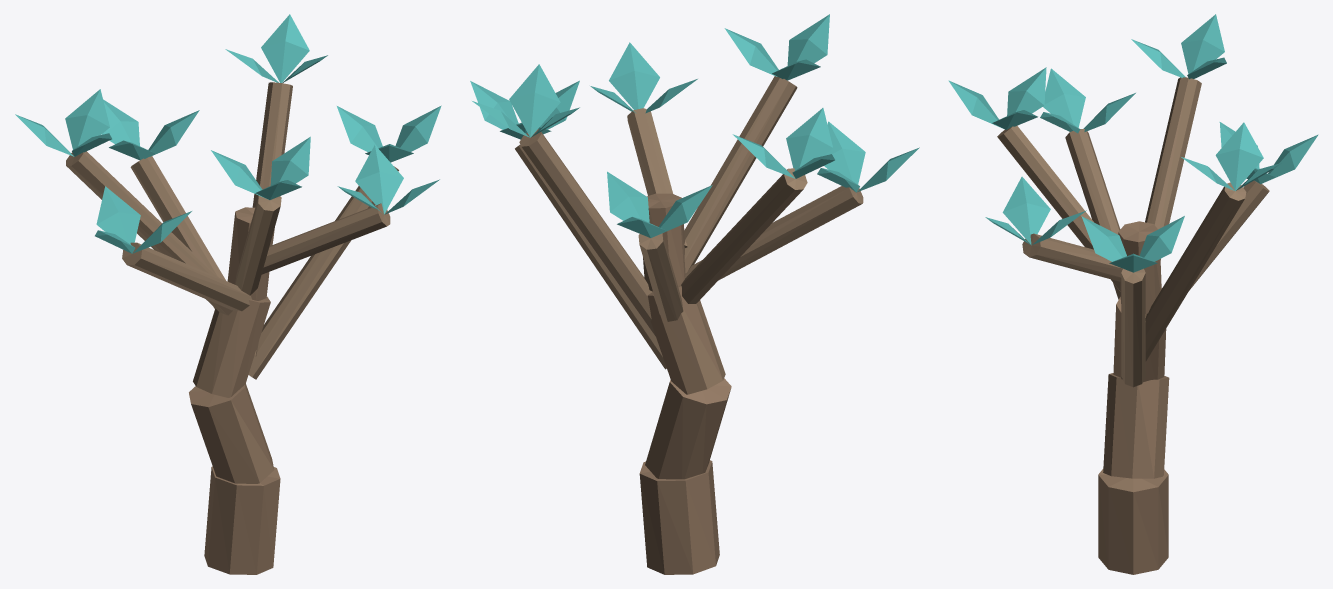
The model's file is tree.glb.
3 views of the same model, side by side, from view 1: azimuth 30°, elevation 25°; view 2: azimuth 150°, elevation 25°; view 3: azimuth 270°, elevation 25° (orthographic). The views are drawn at different scales.
Visible parts, largest first — view 1: trunk_0, trunk_1, trunk_2, branch_0, branch_4, branch_6, branch_3, branch_2, branch_1, branch_5, leaf_1_0, leaf_6_1 (+11 smaller); view 2: trunk_0, trunk_1, branch_1, branch_5, trunk_2, branch_3, branch_4, branch_0, branch_6, branch_2, leaf_1_2, leaf_6_0 (+11 smaller); view 3: trunk_0, trunk_1, branch_1, branch_3, branch_5, branch_0, branch_4, branch_6, leaf_1_1, leaf_6_2, trunk_3, leaf_3_0 (+11 smaller).
Part boxes in pixels (x1,y1,x2,y2): trunk_0: [204, 466, 280, 574]; trunk_1: [189, 383, 274, 483]; trunk_2: [193, 296, 270, 397]; branch_0: [248, 166, 398, 379]; branch_4: [122, 242, 251, 311]; branch_6: [261, 203, 390, 274]; branch_3: [66, 151, 232, 315]; branch_2: [130, 156, 225, 308]; branch_1: [252, 82, 292, 356]; branch_5: [235, 196, 281, 295]; leaf_1_0: [261, 14, 309, 82]; leaf_6_1: [355, 145, 403, 214]; trunk_0: [639, 460, 719, 574]; trunk_1: [645, 378, 731, 479]; branch_1: [519, 129, 655, 336]; branch_5: [684, 76, 797, 273]; trunk_2: [647, 285, 725, 394]; branch_3: [681, 168, 807, 303]; branch_4: [685, 186, 863, 280]; branch_0: [515, 144, 666, 369]; branch_6: [627, 108, 687, 247]; branch_2: [638, 233, 683, 321]; leaf_1_2: [509, 64, 560, 137]; leaf_6_0: [609, 42, 659, 109]; trunk_0: [1098, 469, 1168, 574]; trunk_1: [1103, 373, 1169, 478]; branch_1: [1145, 182, 1246, 361]; branch_3: [1145, 77, 1201, 259]; branch_5: [997, 125, 1120, 291]; branch_0: [1121, 268, 1145, 387]; branch_4: [1065, 129, 1120, 299]; branch_6: [1022, 233, 1122, 281]; leaf_1_1: [1215, 122, 1263, 190]; leaf_6_2: [1002, 176, 1050, 244]; trunk_3: [1118, 221, 1161, 313]; leaf_3_0: [1181, 14, 1224, 73].
Size of the model in its own units: 1.62 by 1.86 by 1.36.
